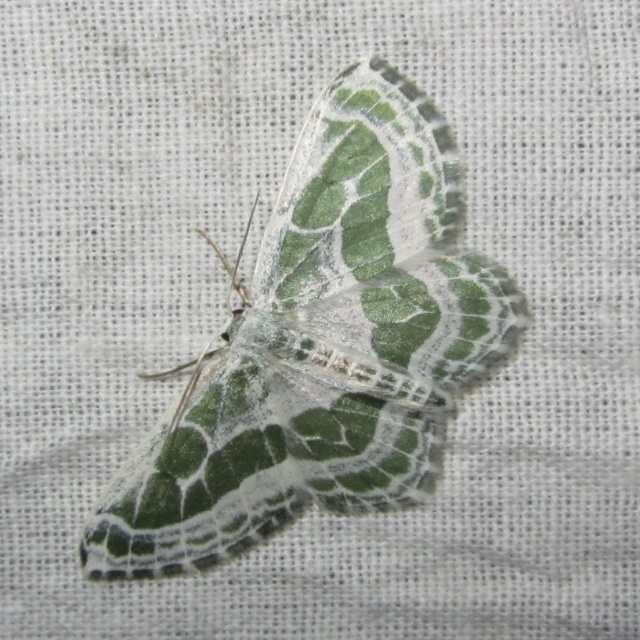Butterfly: (87, 50, 499, 563)
